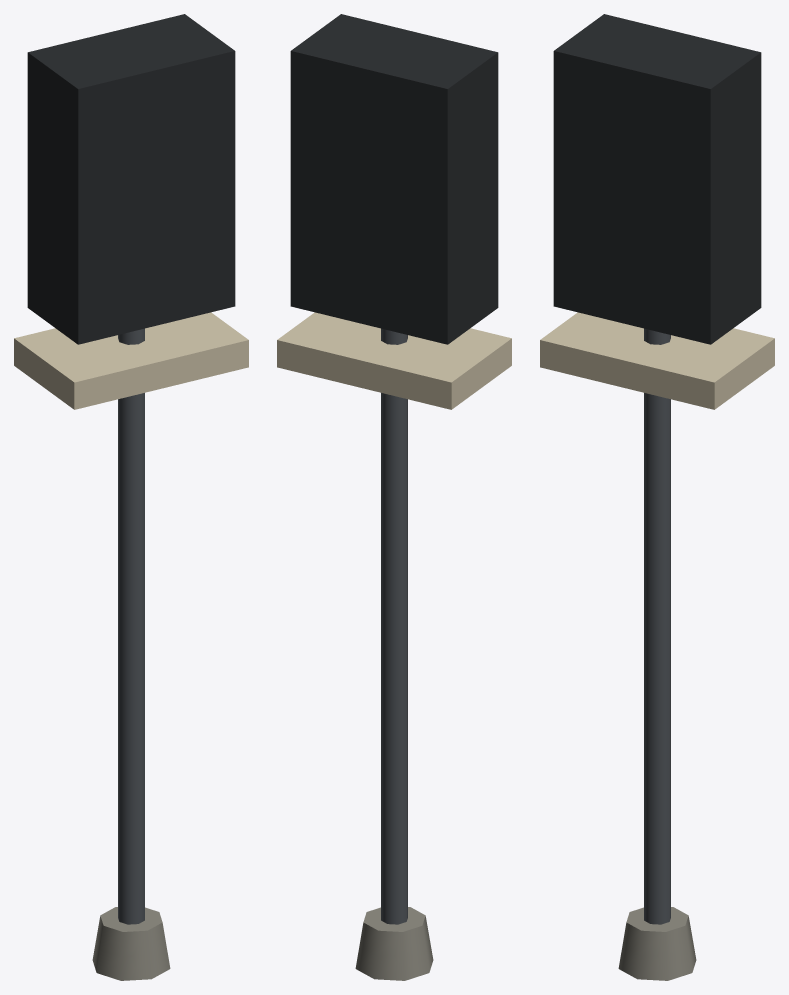
The model's file is rail-signal-path.glb.
3 renders of one model, left to right at view 1: azimuth 30°, elevation 25°; view 2: azimuth 150°, elevation 25°; view 3: azimuth 330°, elevation 25°, orthographic.
Visible parts, largest first — view 1: _MeshInstance3D_94, _MeshInstance3D_92, _MeshInstance3D_95, _MeshInstance3D_93; view 2: _MeshInstance3D_94, _MeshInstance3D_92, _MeshInstance3D_95, _MeshInstance3D_93; view 3: _MeshInstance3D_94, _MeshInstance3D_92, _MeshInstance3D_95, _MeshInstance3D_93.
Part boxes in pixels (x1=…): _MeshInstance3D_94: x1=27, y1=14, x2=235, y2=344; _MeshInstance3D_92: x1=118, y1=328, x2=144, y2=924; _MeshInstance3D_95: x1=14, y1=312, x2=248, y2=409; _MeshInstance3D_93: x1=92, y1=907, x2=170, y2=980; _MeshInstance3D_94: x1=290, y1=14, x2=498, y2=344; _MeshInstance3D_92: x1=381, y1=328, x2=407, y2=924; _MeshInstance3D_95: x1=277, y1=312, x2=511, y2=409; _MeshInstance3D_93: x1=355, y1=907, x2=433, y2=980; _MeshInstance3D_94: x1=553, y1=14, x2=761, y2=344; _MeshInstance3D_92: x1=644, y1=328, x2=670, y2=924; _MeshInstance3D_95: x1=540, y1=312, x2=774, y2=409; _MeshInstance3D_93: x1=618, y1=907, x2=696, y2=980.
Size of the model in its own units: 1 by 5 by 0.6.
